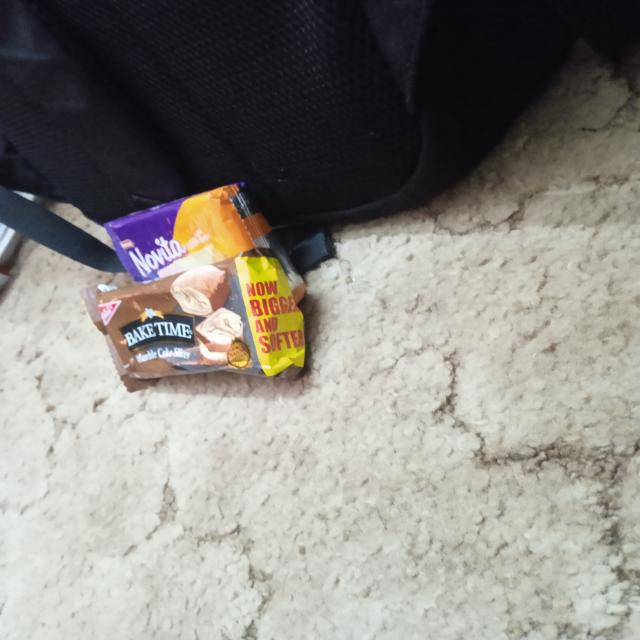Plastic: (84, 271, 318, 394), (88, 174, 300, 262)
